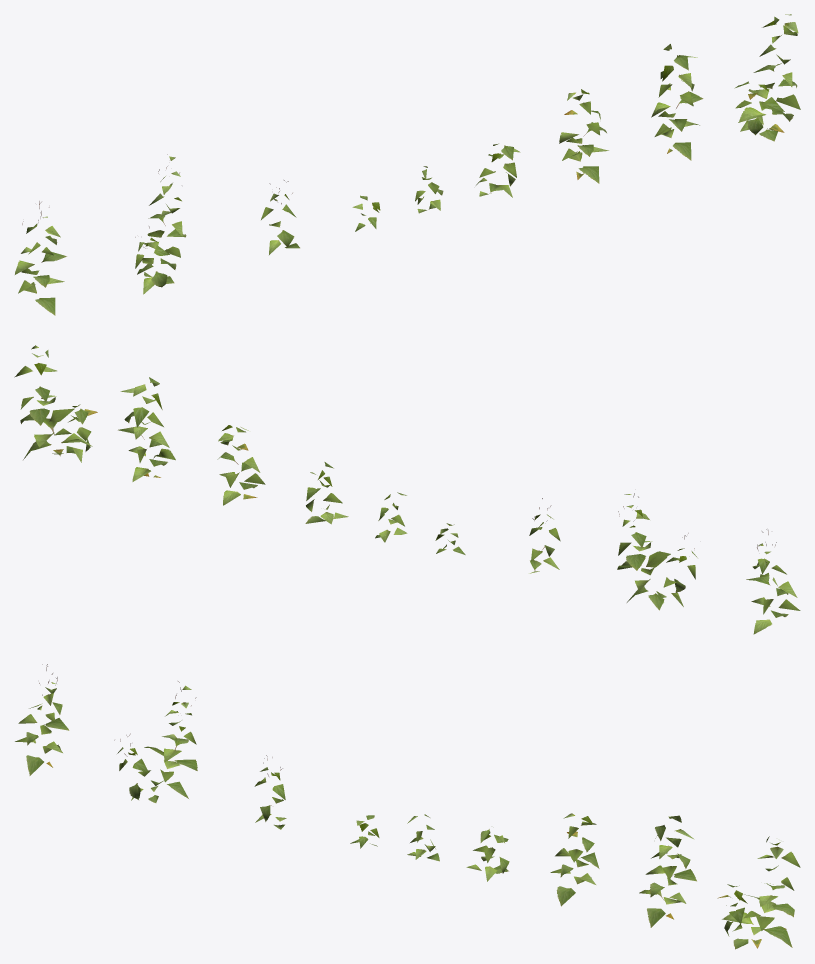
File: shrub_green.glb
3 views of the same model, one above another, from view 1: azimuth 30°, elevation 25°; view 2: azimuth 150°, elevation 25°; view 3: azimuth 330°, elevation 25° (orthographic). The views are drawn at different scales.
Visible parts, largest first — view 1: shrub_01_a; view 2: shrub_01_a; view 3: shrub_01_a.
Part boxes in pixels (x1,y1,x2,y2): shrub_01_a: (15, 14, 800, 315); shrub_01_a: (14, 345, 800, 634); shrub_01_a: (15, 664, 800, 949).
Size of the model in its own units: 2.59 by 0.3877 by 0.2055.
Materials: 1 (1 with a texture image).
